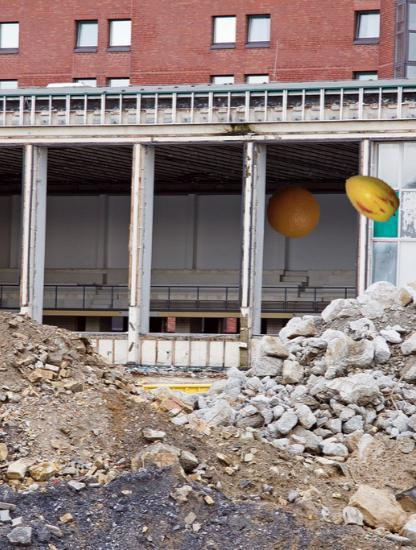Orange: (266, 184, 321, 239)
Pepino: (341, 166, 402, 227)
